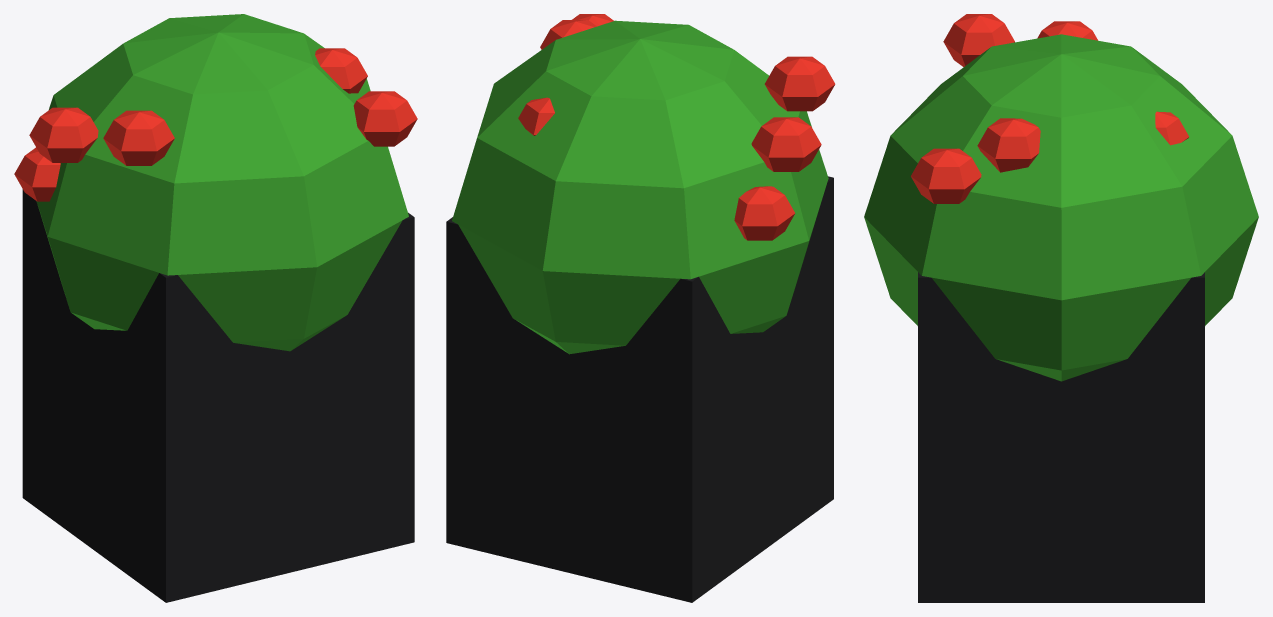
File: env_kb_flower_pot.fbx
The picture shows the model from 3 angles, left to right: view 1: azimuth 30°, elevation 25°; view 2: azimuth 150°, elevation 25°; view 3: azimuth 270°, elevation 25°; orthographic projection.
Parts seen in each view (by area): view 1: COL_env_kb_flower_pot, env_kb_flower_pot_geo_LOD0; view 2: COL_env_kb_flower_pot, env_kb_flower_pot_geo_LOD0; view 3: env_kb_flower_pot_geo_LOD0, COL_env_kb_flower_pot.
Part boxes in pixels (<box>): COL_env_kb_flower_pot: <box>22,189,414,602</box>; env_kb_flower_pot_geo_LOD0: <box>14,14,417,351</box>; COL_env_kb_flower_pot: <box>446,176,833,602</box>; env_kb_flower_pot_geo_LOD0: <box>452,14,835,354</box>; env_kb_flower_pot_geo_LOD0: <box>864,14,1258,381</box>; COL_env_kb_flower_pot: <box>918,272,1204,602</box>.
Size of what is drawn, in the model's own units: 1.12 by 1.5 by 1.1.
